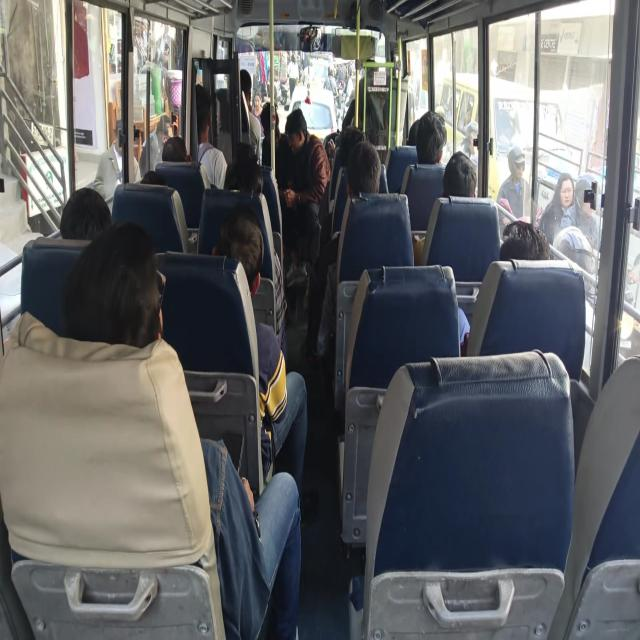person: (86, 248, 173, 346), (52, 178, 112, 249), (136, 156, 190, 208), (217, 222, 263, 283), (498, 218, 553, 269), (442, 155, 486, 205), (155, 125, 193, 177), (345, 158, 378, 215), (232, 65, 267, 116), (226, 153, 256, 204), (329, 116, 361, 162), (192, 87, 216, 143), (415, 112, 441, 160), (359, 52, 386, 90), (256, 100, 280, 137), (286, 112, 306, 146), (232, 139, 262, 159)
